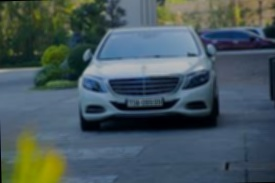Bien-so: (115, 92, 151, 103)
